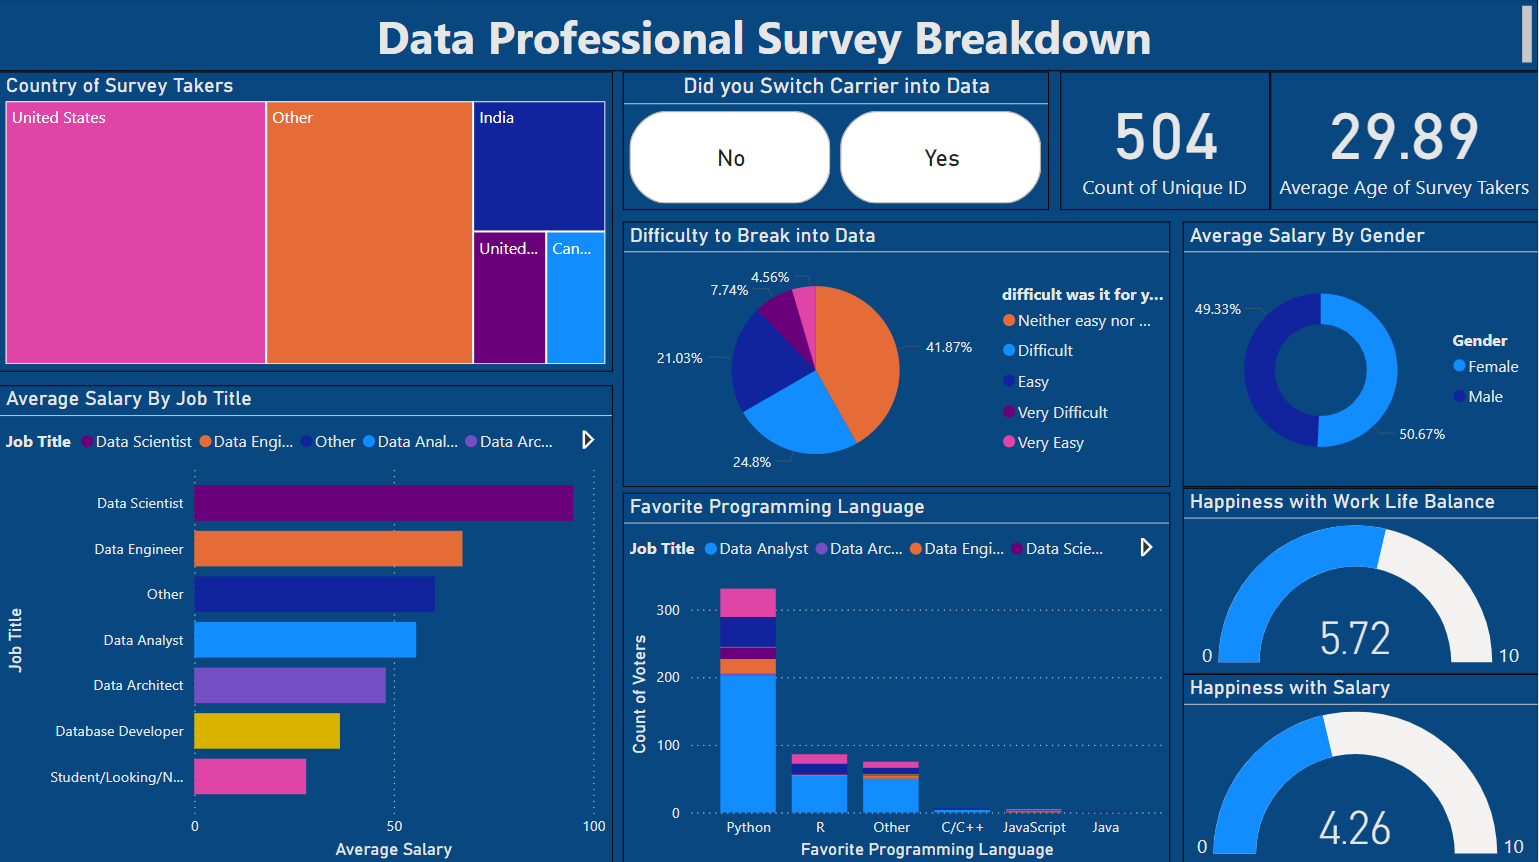

Layout of this report page (visuals, bound fields, positions):
{"tool":"powerbi","page":{"name":"Page 1","canvas":[1280,720],"ordinal":0},"visuals":[{"type":"textbox","box":[0,0,1280.3,60.4],"z":0},{"type":"card","fields":{"Values":["Count(Data Professional Survey.Unique ID)"]},"box":[882.3,60.4,174.3,115.3],"z":1000},{"type":"card","fields":{"Values":["Avg(Data Professional Survey.Q10 - Current Age)"]},"box":[1056.6,60.4,223.7,115.3],"z":2000},{"type":"barChart","title":"Average Salary By Job Title","fields":{"Category":["Data Professional Survey.Q1 - Which Title Best Fits your Current Role?.1"],"Y":["Avg(Data Professional Survey.Average Salary)"],"Series":["Data Professional Survey.Q1 - Which Title Best Fits your Current Role?.1"]},"box":[0,321.1,510.5,399.3],"z":3000},{"type":"columnChart","title":"Favorite Programming Language","fields":{"Category":["Data Professional Survey.Q5 - Favorite Programming Language.1"],"Y":["CountNonNull(Data Professional Survey.Unique ID)"],"Series":["Data Professional Survey.Q1 - Which Title Best Fits your Current Role?.1"]},"box":[518.7,410.3,455.6,310.1],"z":4000},{"type":"treemap","title":"Country of Survey Takers","fields":{"Group":["Data Professional Survey.Q11 - Which Country do you live in?.1"],"Values":["CountNonNull(Data Professional Survey.Q11 - Which Country do you live in?.1)"]},"box":[0,60.4,510.5,249.7],"z":5000},{"type":"gauge","title":"Happiness with Work Life Balance","fields":{"Y":["Avg(Data Professional Survey.Q6 - How Happy are you in your Current Position with the following? (Work/Life Balance))"],"MinValue":["Min(Data Professional Survey.Q6 - How Happy are you in your Current Position with the following? (Work/Life Balance))"],"MaxValue":["Max(Data Professional Survey.Q6 - How Happy are you in your Current Position with the following? (Work/Life Balance))"]},"box":[983.9,406.2,296.4,155.1],"z":6000},{"type":"gauge","title":"Happiness with Salary","fields":{"Y":["Avg(Data Professional Survey.Q6 - How Happy are you in your Current Position with the following? (Salary))"],"MinValue":["Min(Data Professional Survey.Q6 - How Happy are you in your Current Position with the following? (Salary))"],"MaxValue":["Max(Data Professional Survey.Q6 - How Happy are you in your Current Position with the following? (Salary))"],"TargetValue":["Sum(Data Professional Survey.Q3 - Current Yearly Salary (in USD) - Copy.2)"]},"box":[983.9,561.2,296.4,159.2],"z":7000},{"type":"donutChart","title":"Average Salary By Gender","fields":{"Category":["Data Professional Survey.Q9 - Male/Female?"],"Y":["Avg(Data Professional Survey.Average Salary)"]},"box":[983.9,185.2,296.4,220.9],"z":8000},{"type":"pieChart","title":"Difficulty to Break into Data","fields":{"Category":["Data Professional Survey.Q7 - How difficult was it for you to break into Data?"],"Y":["CountNonNull(Data Professional Survey.Q9 - Male/Female?)"]},"box":[518.7,185.2,455.6,220.9],"z":9000},{"type":"advancedSlicerVisual","title":"Did you Switch Carrier into Data","fields":{"Values":["Data Professional Survey.Q2 - Did you switch careers into Data?"]},"box":[518.7,60.4,354,115.3],"z":10000}]}

Visuals, with their boxes in screenshot pixels (x1, y1, x2, y2), scaled from the page's 1280x720 canvas onto the 1539x862 screenshot:
textbox: [x1=0, y1=0, x2=1538, y2=72]
card - Count(Data Professional Survey.Unique ID): [x1=1061, y1=72, x2=1270, y2=210]
card - Avg(Data Professional Survey.Q10 - Current Age): [x1=1270, y1=72, x2=1538, y2=210]
"Average Salary By Job Title" barChart: [x1=0, y1=384, x2=614, y2=861]
"Favorite Programming Language" columnChart: [x1=624, y1=491, x2=1171, y2=861]
"Country of Survey Takers" treemap: [x1=0, y1=72, x2=614, y2=371]
"Happiness with Work Life Balance" gauge: [x1=1183, y1=486, x2=1538, y2=672]
"Happiness with Salary" gauge: [x1=1183, y1=672, x2=1538, y2=861]
"Average Salary By Gender" donutChart: [x1=1183, y1=222, x2=1538, y2=486]
"Difficulty to Break into Data" pieChart: [x1=624, y1=222, x2=1171, y2=486]
"Did you Switch Carrier into Data" advancedSlicerVisual: [x1=624, y1=72, x2=1049, y2=210]
